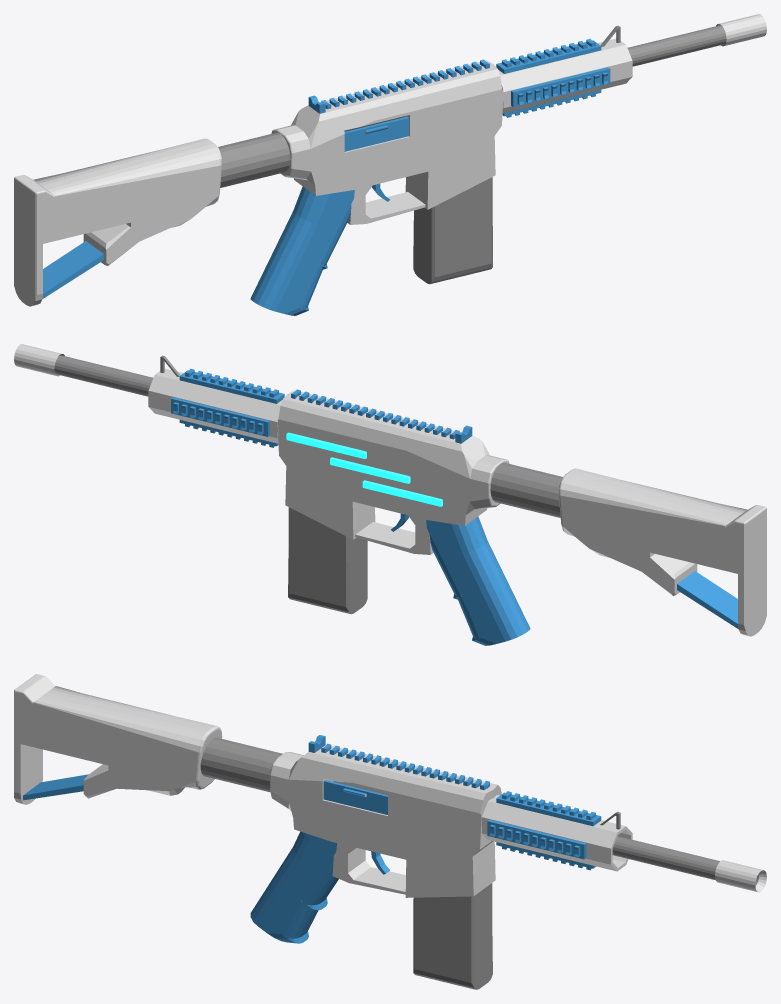
File: Assault Rifle.fbx
3 views of the same model, one above another, from view 1: azimuth 30°, elevation 25°; view 2: azimuth 150°, elevation 25°; view 3: azimuth 330°, elevation 25° (orthographic).
Visible parts, largest first — view 1: Vert.007, Vert.009, Cube.010, Cylinder.007, Cylinder.008, Cylinder.006, Cube.015, Cube.013; view 2: Vert.007, Vert.009, Cube.010, Cylinder.007, Cylinder.008, Cylinder.006, Cube.014, Cube.013; view 3: Vert.007, Vert.009, Cube.010, Cylinder.007, Cylinder.008, Cylinder.006, Cube.015, Cube.013.
Boxes of the visible parts, x1,y1,x2,y2 form: Vert.007: (250, 59, 503, 315); Vert.009: (14, 138, 425, 306); Cube.010: (413, 177, 492, 284); Cylinder.007: (498, 25, 632, 113); Cylinder.008: (344, 14, 766, 131); Cylinder.006: (218, 132, 290, 187); Cube.015: (511, 67, 610, 106); Cube.013: (496, 38, 601, 73); Vert.007: (277, 389, 530, 645); Vert.009: (355, 468, 766, 636); Cube.010: (288, 507, 367, 614); Cylinder.007: (148, 355, 282, 443); Cylinder.008: (14, 344, 153, 396); Cylinder.006: (490, 462, 562, 517); Cube.014: (171, 397, 269, 436); Cube.013: (179, 368, 284, 403); Vert.007: (250, 735, 501, 943); Vert.009: (14, 674, 405, 894); Cube.010: (413, 883, 492, 989); Cylinder.007: (482, 795, 632, 871); Cylinder.008: (329, 780, 766, 892); Cylinder.006: (200, 737, 282, 791); Cube.015: (487, 819, 586, 859); Cube.013: (496, 791, 601, 826).
Bounding box in the file's own units: 372 × 99.83 × 26.1.
